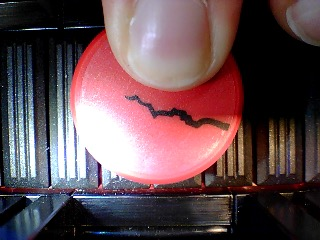CRACK: (69, 22, 244, 185)
